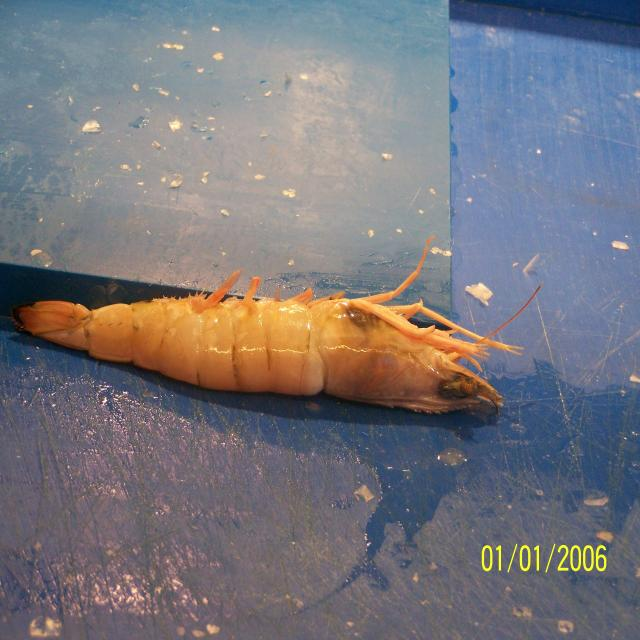Shrimp-karides-: (8, 289, 518, 417)
